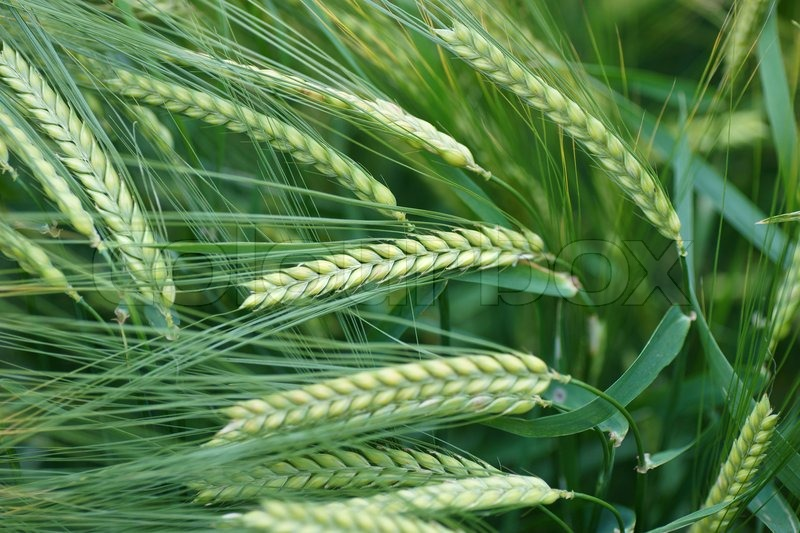wheat: (401, 1, 729, 299), (64, 35, 540, 238), (1, 19, 198, 329), (214, 204, 602, 334), (192, 338, 618, 455), (171, 432, 590, 531), (695, 394, 783, 522)
